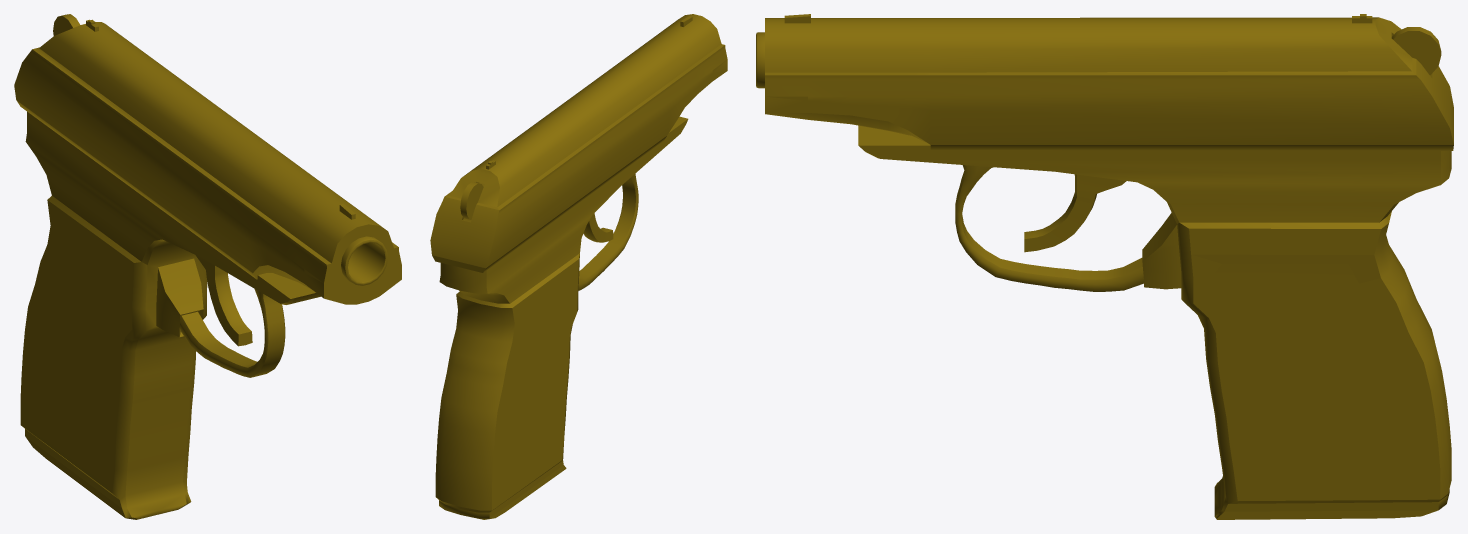
Rendered from Makarov Low Poly.FBX.
The picture shows the model from 3 angles, left to right: view 1: azimuth 30°, elevation 25°; view 2: azimuth 150°, elevation 25°; view 3: azimuth 270°, elevation 25°; orthographic projection. The views are drawn at different scales.
Parts seen in each view (by area): view 1: Low Poly Base, Low Poly Barrel; view 2: Low Poly Base, Low Poly Barrel; view 3: Low Poly Base, Low Poly Barrel.
Part boxes in pixels (x1,y1,x2,y2): Low Poly Base: (20,111,320,519); Low Poly Barrel: (14,14,401,304); Low Poly Base: (435,116,688,519); Low Poly Barrel: (430,14,727,272); Low Poly Base: (858,125,1451,519); Low Poly Barrel: (756,14,1453,150).
Size of the model in its own units: 2.05 by 11.19 by 14.36.
